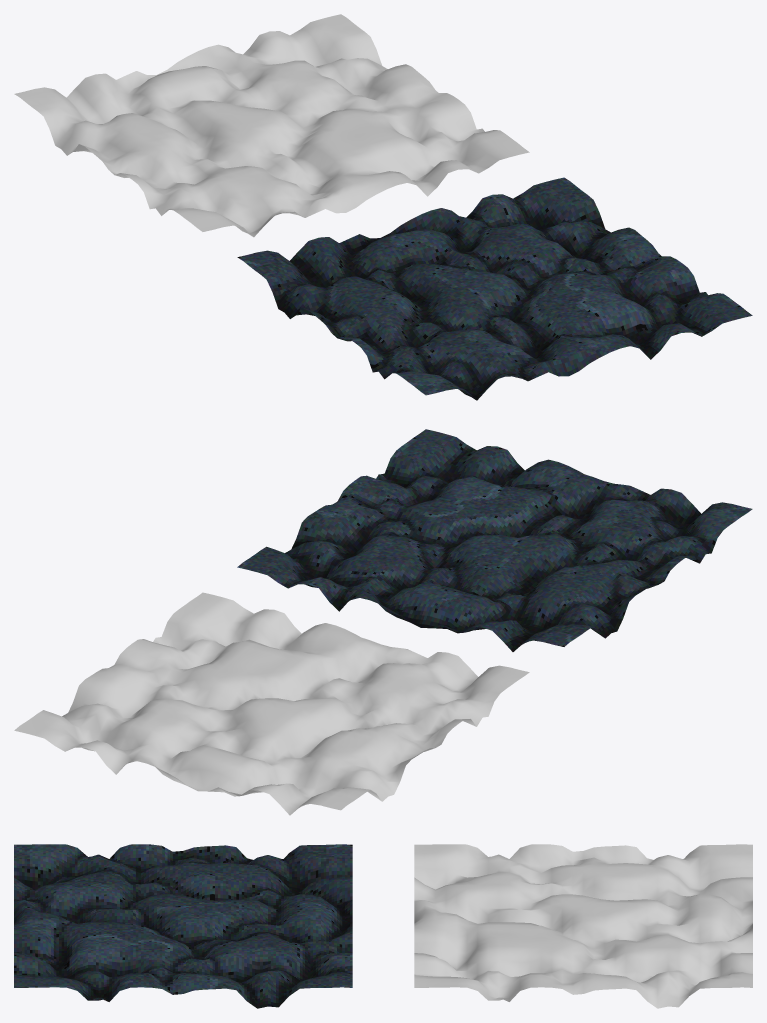
Rendered from Rock Floor.fbx.
3 renders of one model, top to bottom at view 1: azimuth 30°, elevation 25°; view 2: azimuth 150°, elevation 25°; view 3: azimuth 270°, elevation 25°, orthographic. The views are drawn at different scales.
Parts seen in each view (by area): view 1: Plane, Plane.001; view 2: Plane.001, Plane; view 3: Plane, Plane.001.
Boxes of the visible parts, x1,y1,x2,y2 form: Plane: (237, 177, 752, 400); Plane.001: (14, 14, 529, 237); Plane.001: (14, 592, 529, 815); Plane: (237, 429, 752, 651); Plane: (14, 844, 352, 1008); Plane.001: (414, 844, 752, 1008).
Size of the model in its own units: 508 by 38.59 by 1108.
